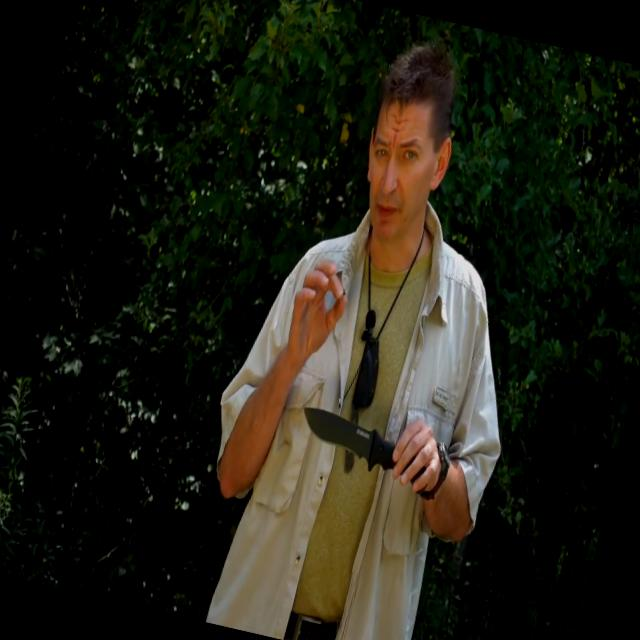knife: (286, 386, 444, 498)
